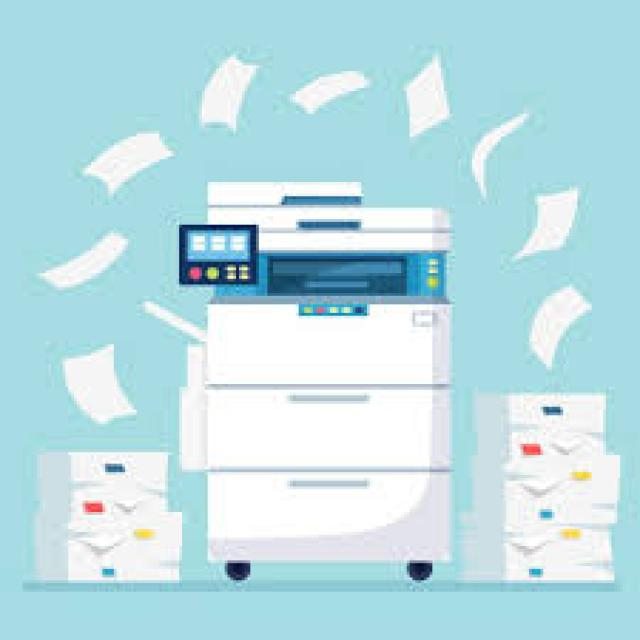printer: (174, 179, 455, 580)
